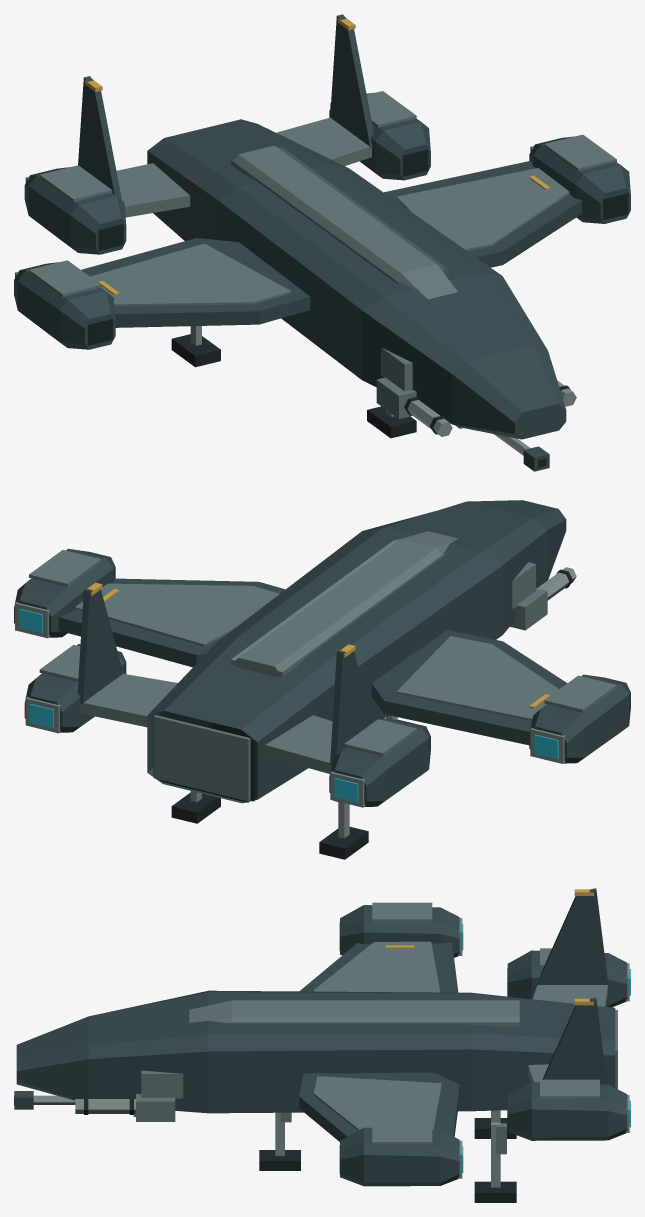
File: korp_d0_lod2.glb
The picture shows the model from 3 angles, top to bottom: view 1: azimuth 30°, elevation 25°; view 2: azimuth 150°, elevation 25°; view 3: azimuth 270°, elevation 25°; orthographic projection. The views are drawn at different scales.
Visible parts, largest first — view 1: KORP_ROOT_MESH; view 2: KORP_ROOT_MESH; view 3: KORP_ROOT_MESH.
Boxes of the visible parts, x1=… form: KORP_ROOT_MESH: x1=14, y1=14, x2=630, y2=471; KORP_ROOT_MESH: x1=14, y1=500, x2=630, y2=859; KORP_ROOT_MESH: x1=14, y1=888, x2=630, y2=1202.
Bounding box in the file's own units: 24.3 × 10.2 × 25.77.
